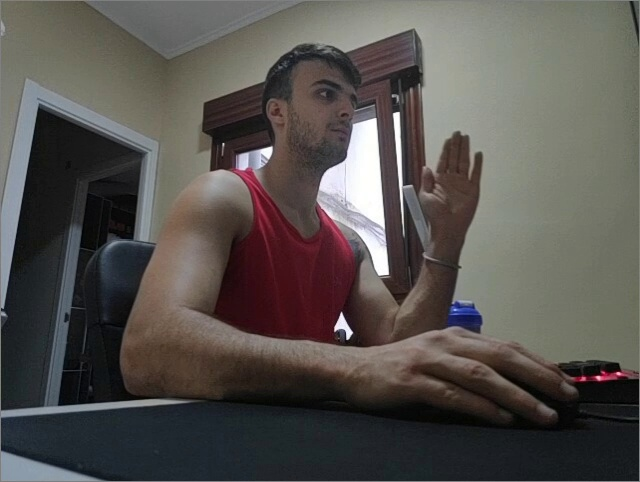Palm: (418, 129, 484, 229)
